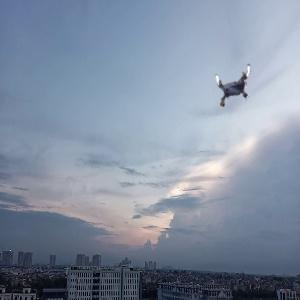drone: (212, 64, 259, 111)
